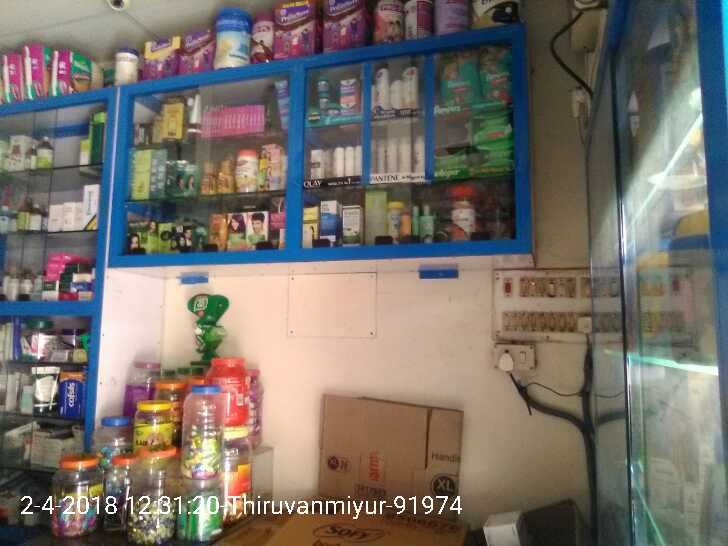vicks: (314, 75, 360, 112)
